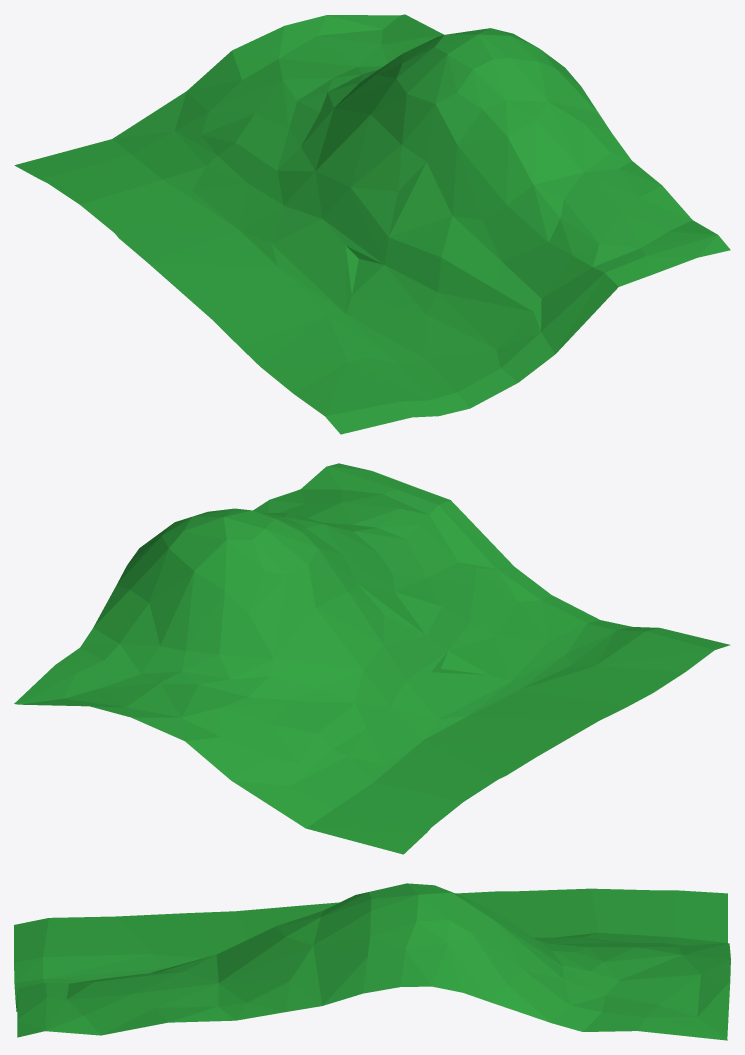
Rendered from Field_L6.fbx.
The picture shows the model from 3 angles, top to bottom: view 1: azimuth 30°, elevation 25°; view 2: azimuth 150°, elevation 25°; view 3: azimuth 270°, elevation 25°; orthographic projection. The views are drawn at different scales.
Parts seen in each view (by area): view 1: L6; view 2: L6; view 3: L6.
Boxes of the visible parts, bbox=[...] form: L6: bbox=[14, 14, 730, 434]; L6: bbox=[14, 463, 730, 854]; L6: bbox=[14, 883, 730, 1040].
Bounding box in the file's own units: 2557 × 1162 × 3615.
